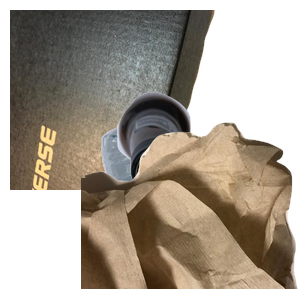cardboard: (10, 10, 217, 190)
glass: (115, 90, 300, 270)
plastic: (99, 120, 289, 300)
trash: (81, 120, 300, 300)
